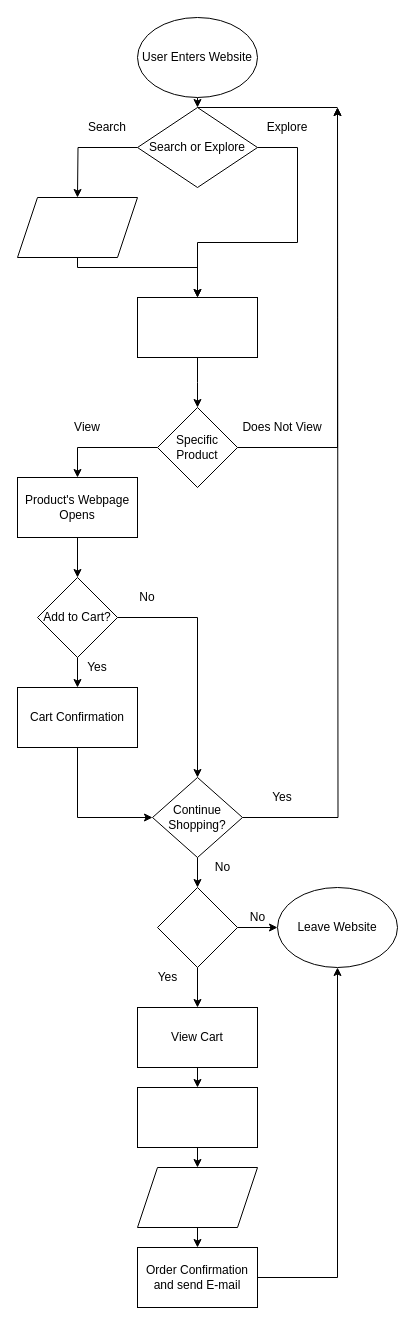
This 415x1325 diagram has some shape labels left out. The shapes that lost their labels are listed below. From the top down, each one's centre as x and y in pixels, then its label:
pixel 77 227: User Input
pixel 197 327: User Browses Products
pixel 197 927: Checkout?
pixel 197 1117: View Payment
pixel 197 1197: User Payment Information
